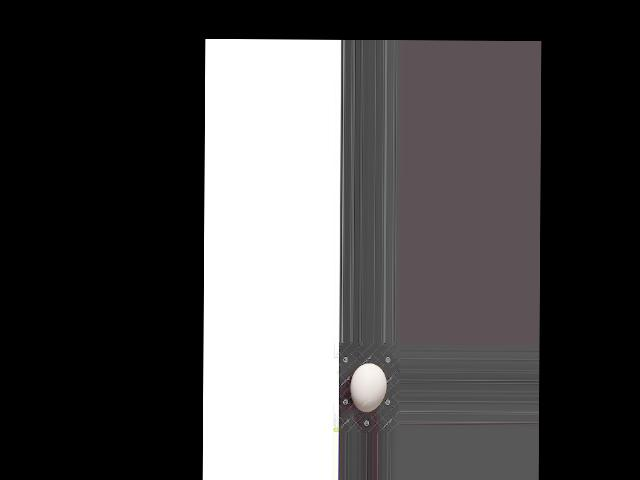egg: (350, 362, 386, 412)
